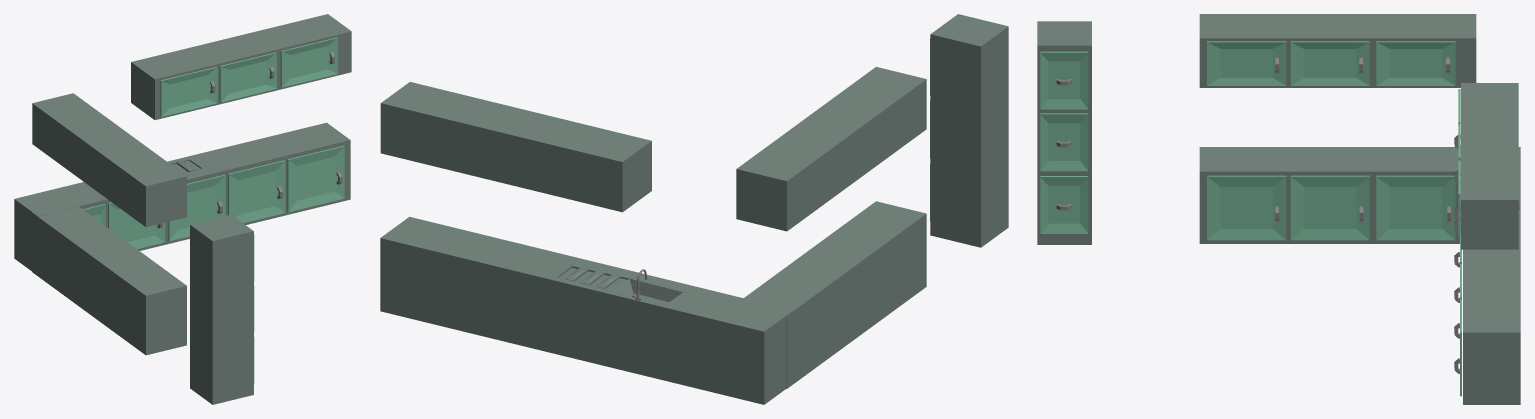
Rendered from mutfak 1.fbx.
3 views of the same model, side by side, from view 1: azimuth 30°, elevation 25°; view 2: azimuth 150°, elevation 25°; view 3: azimuth 270°, elevation 25° (orthographic). The views are drawn at different scales.
Visible parts, largest first — view 1: Cube.001; view 2: Cube.001; view 3: Cube.001.
Boxes of the visible parts, left/top/right/bottom form: Cube.001: left=14, top=14, right=351, bottom=404; Cube.001: left=380, top=14, right=1008, bottom=404; Cube.001: left=1037, top=14, right=1520, bottom=404.
Bounding box in the file's own units: 1100 × 570 × 1209.
